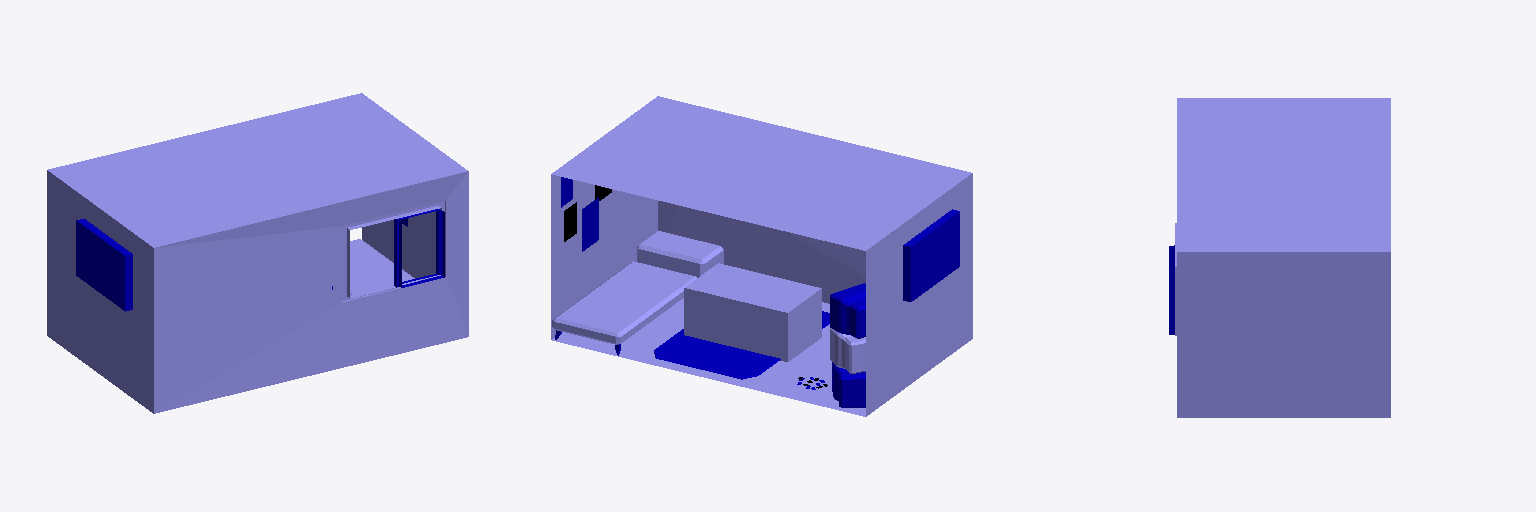
The model's file is room_colored_no_wall.obj.
3 renders of one model, left to right at view 1: azimuth 30°, elevation 25°; view 2: azimuth 150°, elevation 25°; view 3: azimuth 270°, elevation 25°, orthographic.
Visible parts, largest first — view 1: Walls, Cube.002, Cube.003, Walls.001; view 2: Walls, Table, Cube.003, Cube.002, Plane.005, Cube.005, Tv.002, Tv.001, Tv, Plane.011; view 3: Walls, Cube.003, Walls.001.
Boxes of the visible parts, x1=… form: Walls: x1=47, y1=93, x2=468, y2=413; Cube.002: x1=76, y1=219, x2=132, y2=311; Cube.003: x1=350, y1=239, x2=414, y2=295; Walls.001: x1=394, y1=209, x2=444, y2=287; Walls: x1=551, y1=96, x2=972, y2=416; Table: x1=684, y1=263, x2=821, y2=361; Cube.003: x1=552, y1=261, x2=696, y2=344; Cube.002: x1=903, y1=209, x2=959, y2=301; Plane.005: x1=654, y1=311, x2=829, y2=379; Cube.005: x1=637, y1=231, x2=723, y2=277; Tv.002: x1=830, y1=283, x2=865, y2=338; Tv.001: x1=830, y1=328, x2=865, y2=373; Tv: x1=832, y1=362, x2=865, y2=407; Plane.011: x1=582, y1=197, x2=598, y2=251; Walls: x1=1175, y1=98, x2=1390, y2=417; Cube.003: x1=1233, y1=398, x2=1387, y2=404; Walls.001: x1=1169, y1=245, x2=1174, y2=334.
Size of the model in its own units: 6.11 by 3 by 3.64.